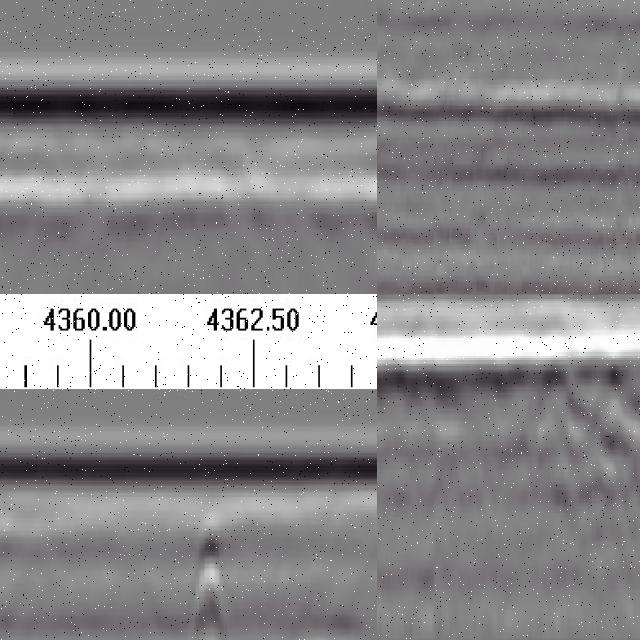crack: (190, 503, 222, 640)
loose: (545, 364, 640, 510)
